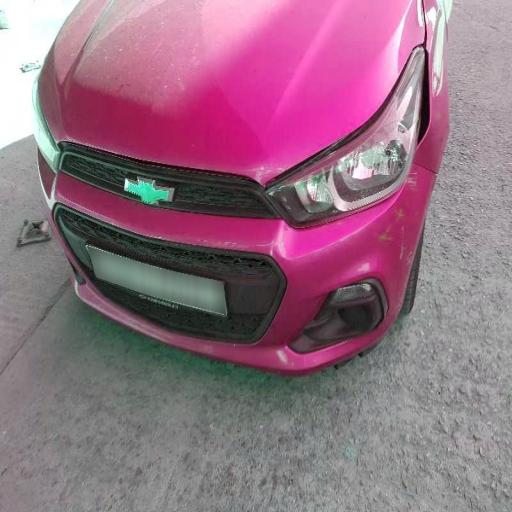scratch: (49, 3, 324, 271)
